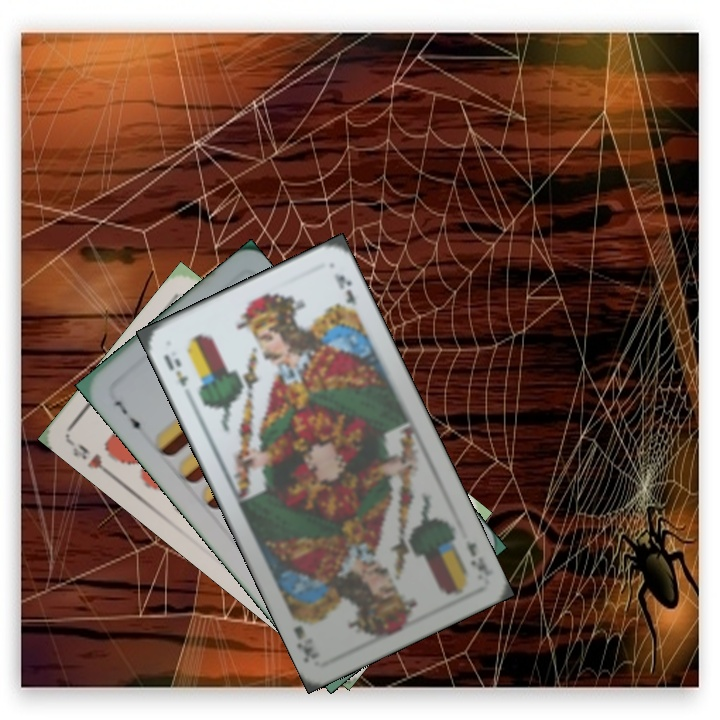E7: (110, 396, 145, 438)
EK: (461, 537, 495, 579), (159, 349, 192, 389)
H9: (68, 439, 116, 480)
